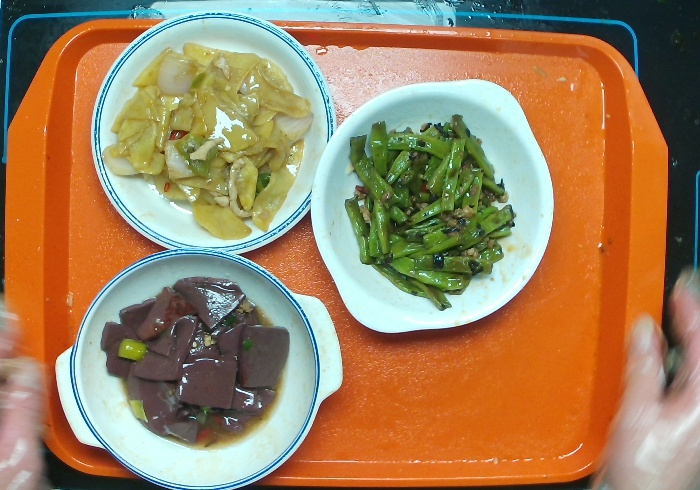HZYJPL-Dai_Er_Bai_Yuan_Wan: (310, 75, 556, 333)
HZYJPL-Lan_Bian_Dai_Er_Wan: (53, 246, 346, 490)
HZYJPL-Lan_Bian_Yuan_Die: (90, 9, 341, 254)
